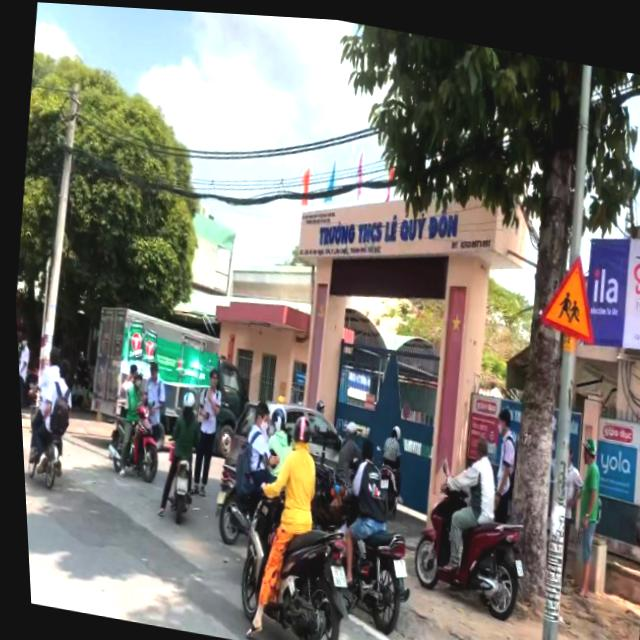Tre em: (527, 235, 604, 344)
